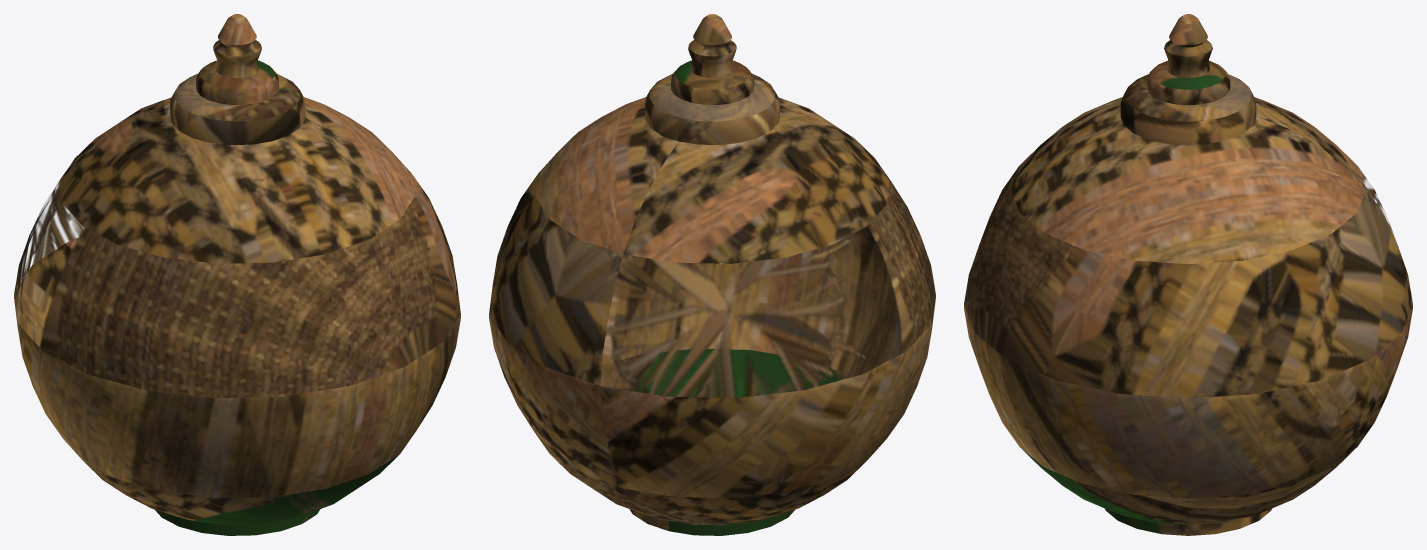
The model's file is xi_oam_hanginglamp_sphere.gltf.
The picture shows the model from 3 angles, left to right: view 1: azimuth 30°, elevation 25°; view 2: azimuth 150°, elevation 25°; view 3: azimuth 270°, elevation 25°; orthographic projection.
Parts seen in each view (by area): view 1: xi_oam_hanginglamp_sphere; view 2: xi_oam_hanginglamp_sphere; view 3: xi_oam_hanginglamp_sphere.
Boxes of the visible parts, left/top/right/bottom form: xi_oam_hanginglamp_sphere: left=14, top=14, right=460, bottom=535; xi_oam_hanginglamp_sphere: left=489, top=14, right=935, bottom=535; xi_oam_hanginglamp_sphere: left=964, top=14, right=1412, bottom=535.
Size of the model in its own units: 0.3421 by 0.4059 by 0.3421.
2 materials, 2 textured.
